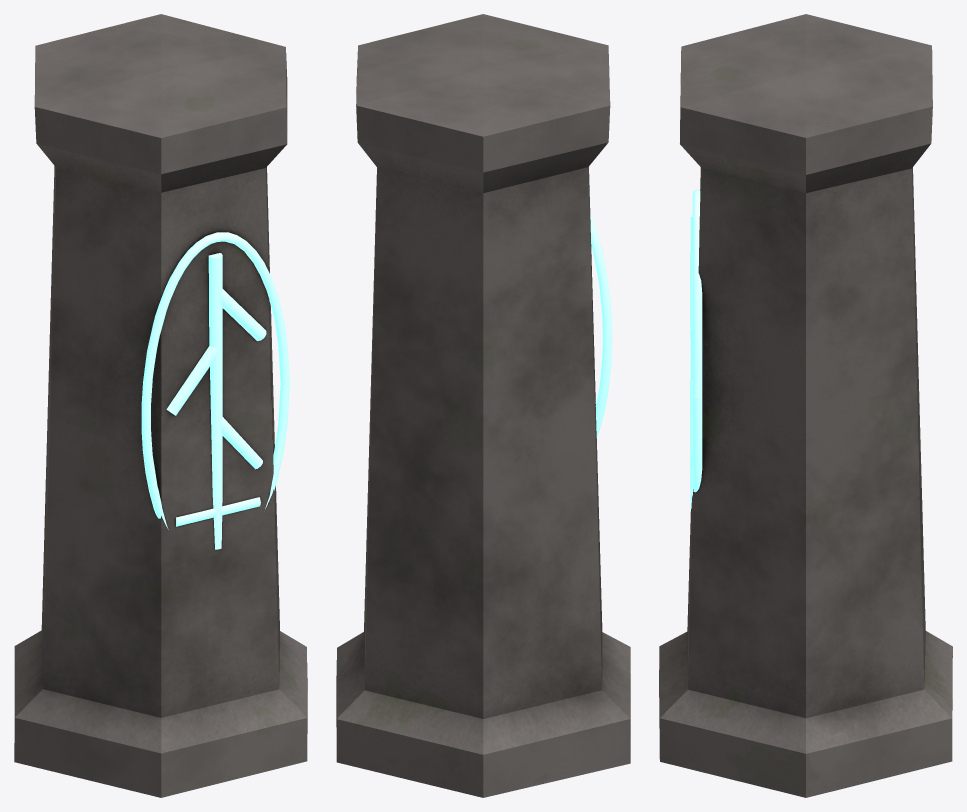
The model's file is puzzle_runa.glb.
The picture shows the model from 3 angles, left to right: view 1: azimuth 30°, elevation 25°; view 2: azimuth 150°, elevation 25°; view 3: azimuth 270°, elevation 25°; orthographic projection.
Visible parts, largest first — view 1: puzzle_runa, anel_runa, traco0, traco2, traco1, traco4, traco3; view 2: puzzle_runa, anel_runa; view 3: puzzle_runa, anel_runa.
Part boxes in pixels (left/top/right/bottom): puzzle_runa: left=14, top=14, right=307, bottom=797; anel_runa: left=141, top=232, right=289, bottom=529; traco0: left=208, top=253, right=222, bottom=549; traco2: left=166, top=345, right=219, bottom=415; traco1: left=218, top=289, right=266, bottom=340; traco4: left=176, top=497, right=260, bottom=526; traco3: left=218, top=417, right=262, bottom=469; puzzle_runa: left=336, top=14, right=630, bottom=797; anel_runa: left=590, top=213, right=612, bottom=437; puzzle_runa: left=659, top=14, right=952, bottom=797; anel_runa: left=692, top=189, right=702, bottom=497.
Size of the model in its own units: 0.8423 by 1.8 by 0.7296.
Materials: 7 (1 with a texture image).
